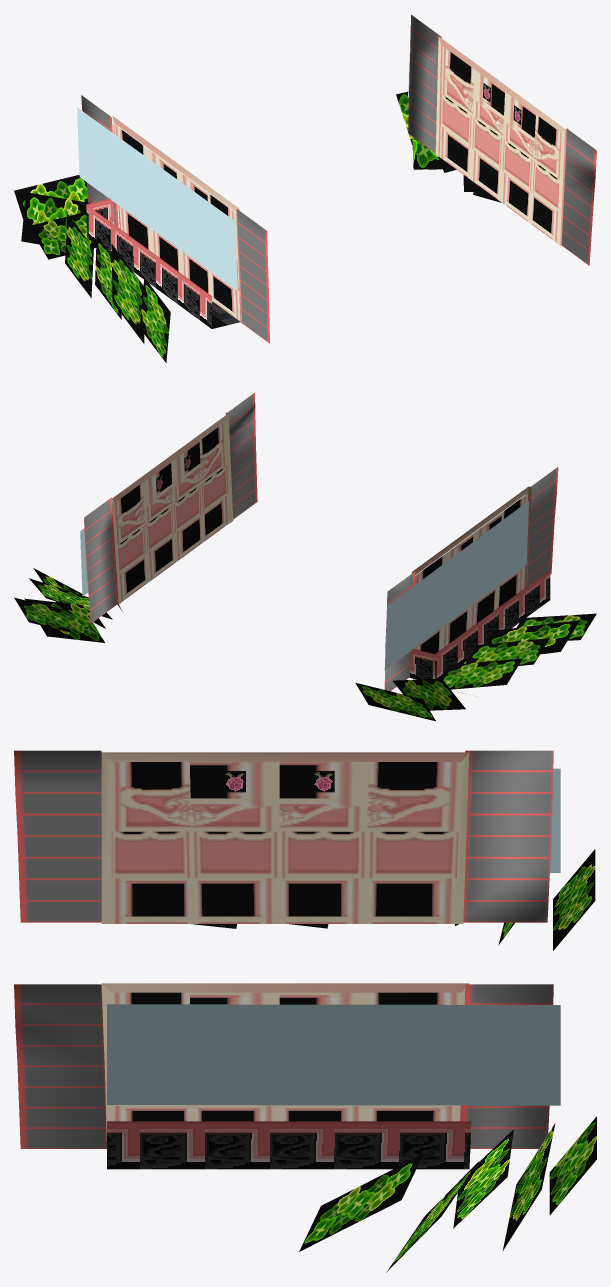
The picture shows the model from 3 angles, top to bottom: view 1: azimuth 30°, elevation 25°; view 2: azimuth 150°, elevation 25°; view 3: azimuth 270°, elevation 25°; orthographic projection. The views are drawn at different scales.
Visible parts, largest first — view 1: l00_kb4; view 2: l00_kb4; view 3: l00_kb4.
Part boxes in pixels (x1,y1,x2,y2): l00_kb4: (14,14,596,362); l00_kb4: (14,393,596,721); l00_kb4: (14,750,596,1272).
Bounding box in the file's own units: 5.03 × 1.45 × 3.37.
Materials: 6 (6 with a texture image).
